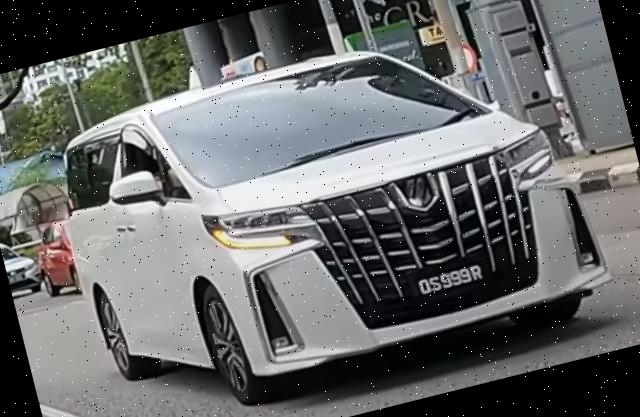License_Plate: (413, 261, 487, 300)
car: (38, 1, 624, 417)
